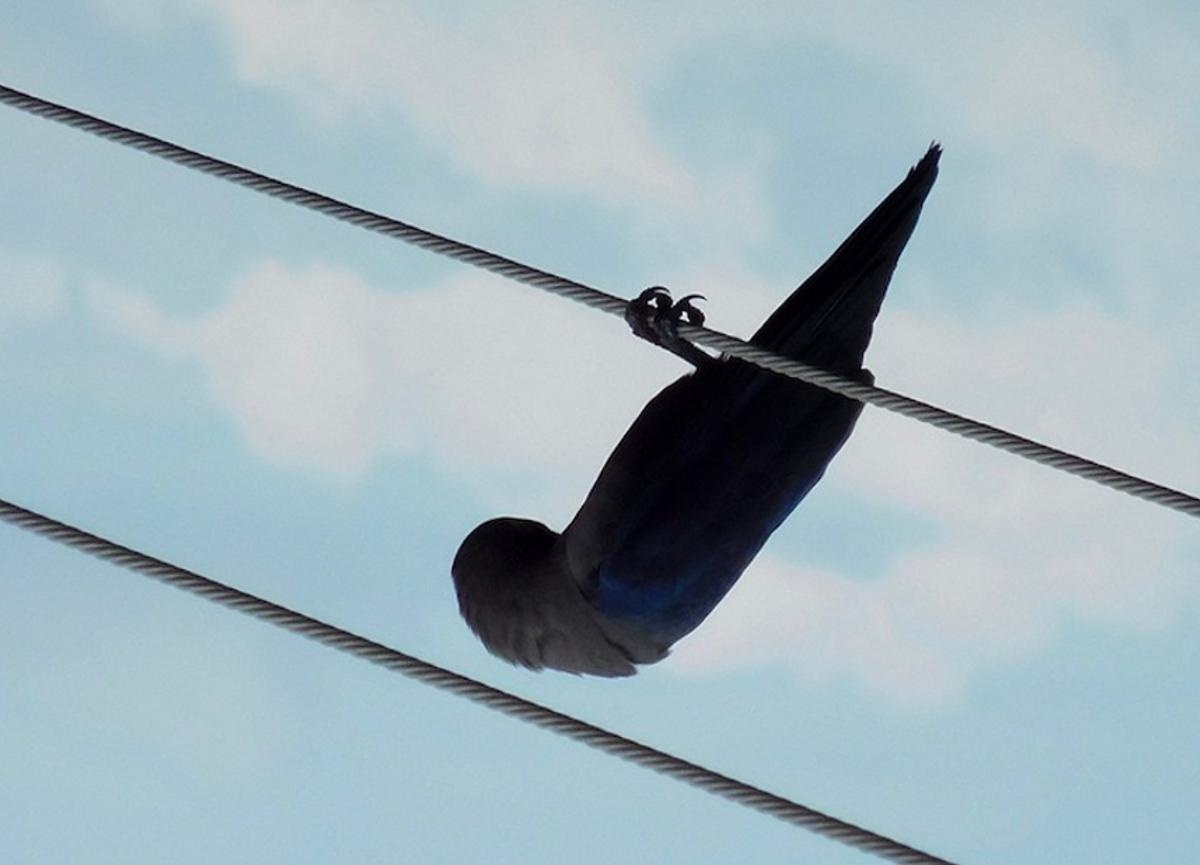crow: (437, 127, 978, 706)
